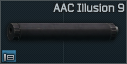AAC Illusion 9 9x19mm sound suppressor: (0, 0, 127, 64)
